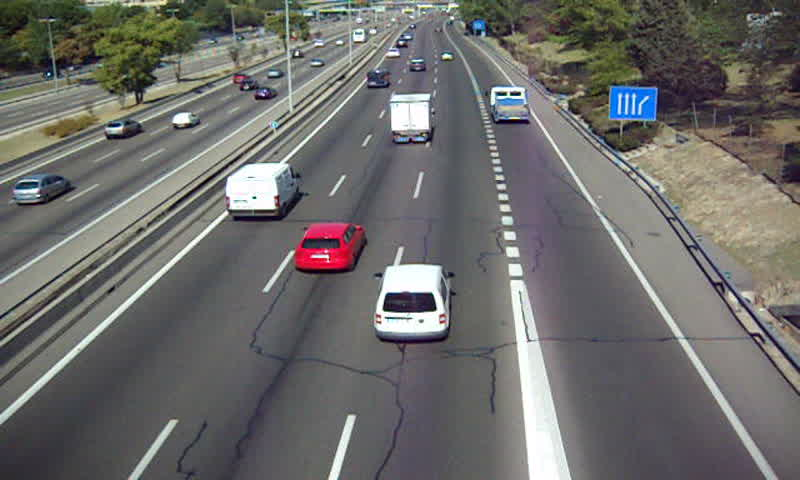car: (373, 264, 452, 339), (294, 222, 364, 273), (408, 58, 427, 74), (440, 51, 456, 63), (385, 46, 400, 58)
small-truck: (388, 92, 433, 142), (488, 86, 530, 123)
van: (224, 163, 300, 218), (364, 69, 390, 91)
